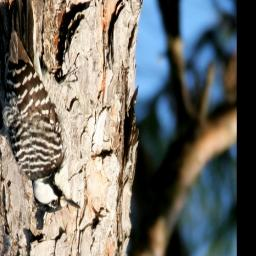Woodpecker: (1, 0, 81, 214)
